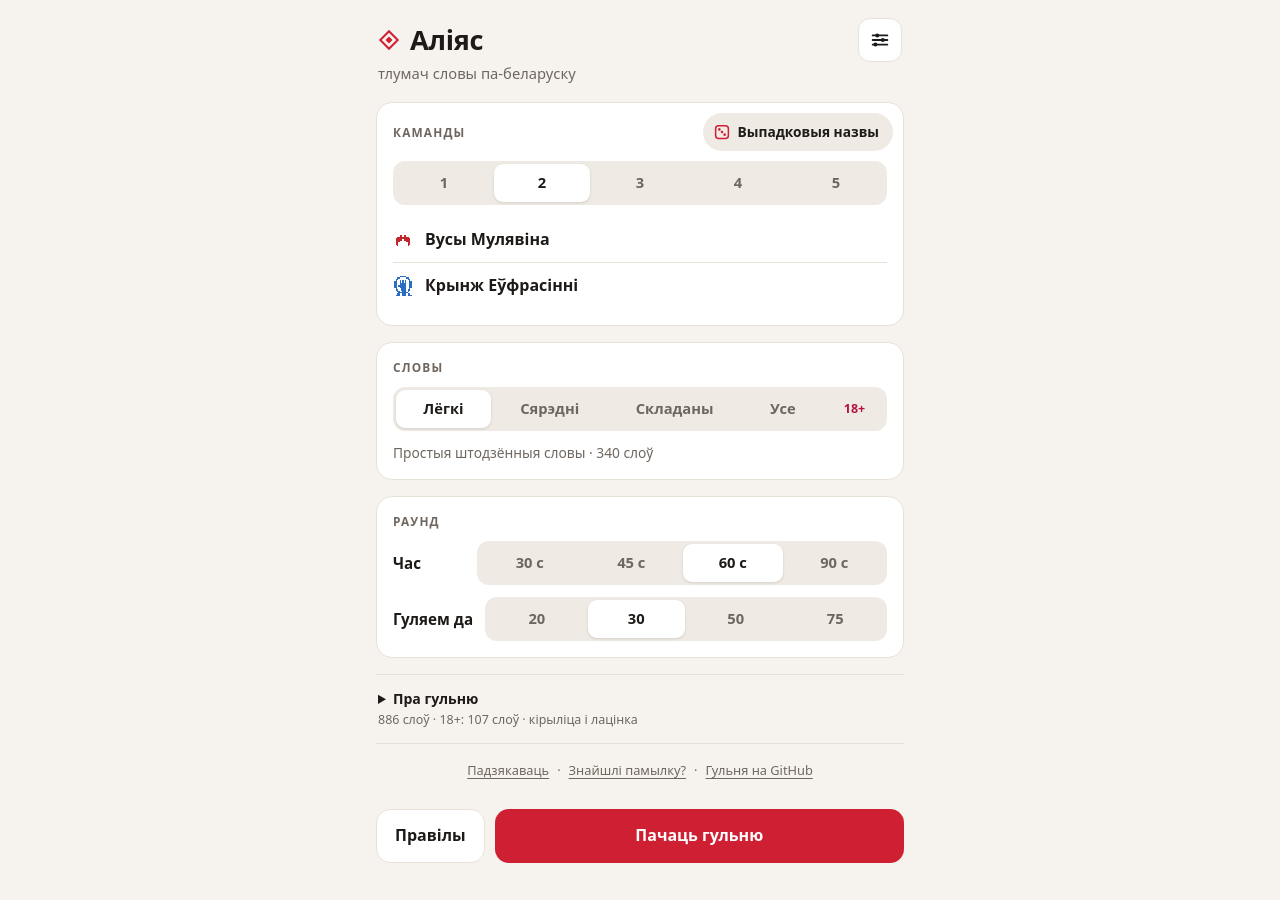
Scenario: SetupScreen › рэжым 18+ стаіць у адным радзе з узроўнямі і ўключаецца толькі пасля пацвярджэння ўзросту
Click the radio button labelled "18+": click(855, 409) top-left (825, 390), bottom-right (884, 428)
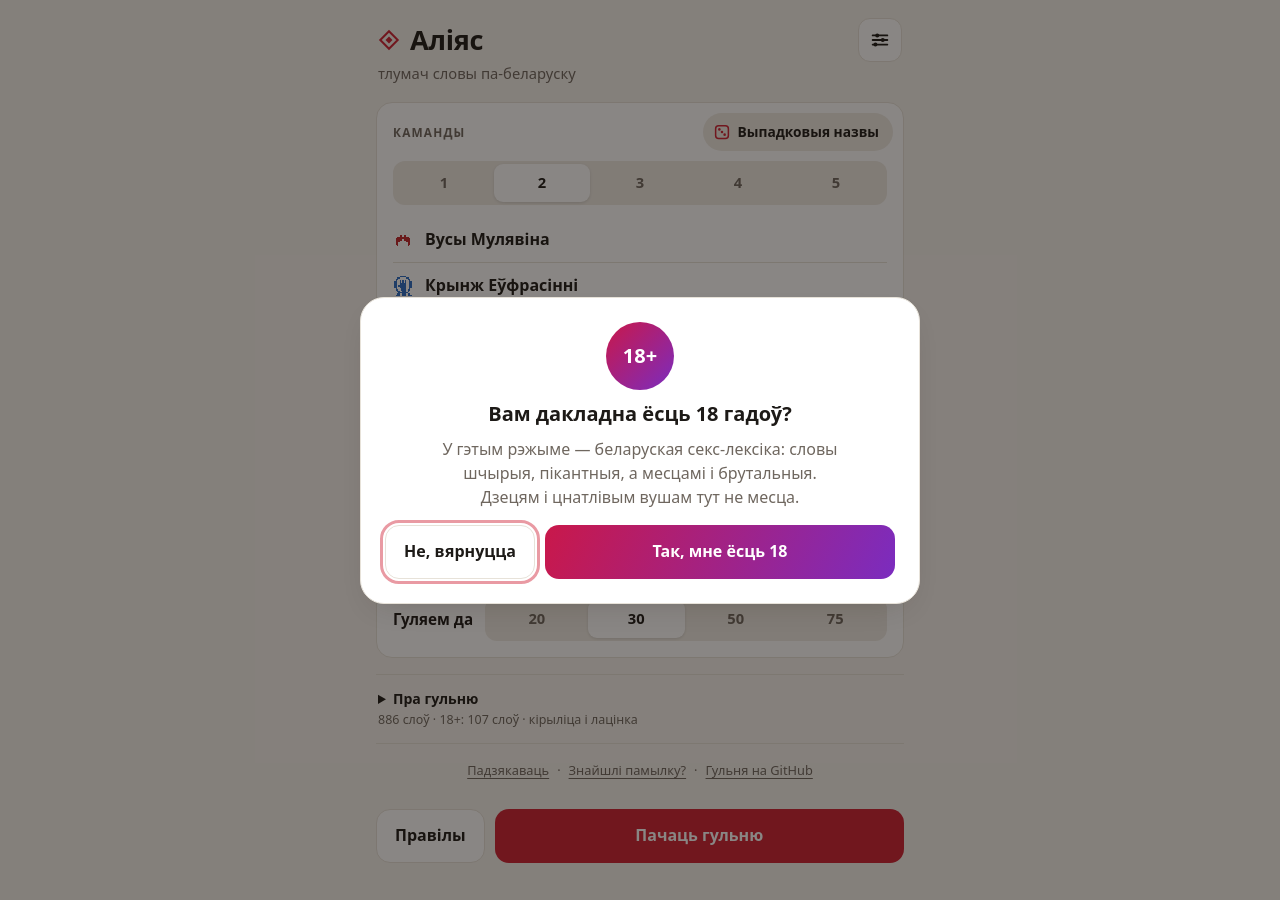
Result: the dialog "Вам дакладна ёсць 18 гадоў?" is shown
Click the button "Не, вярнуцца": click(460, 552) top-left (385, 524), bottom-right (535, 578)
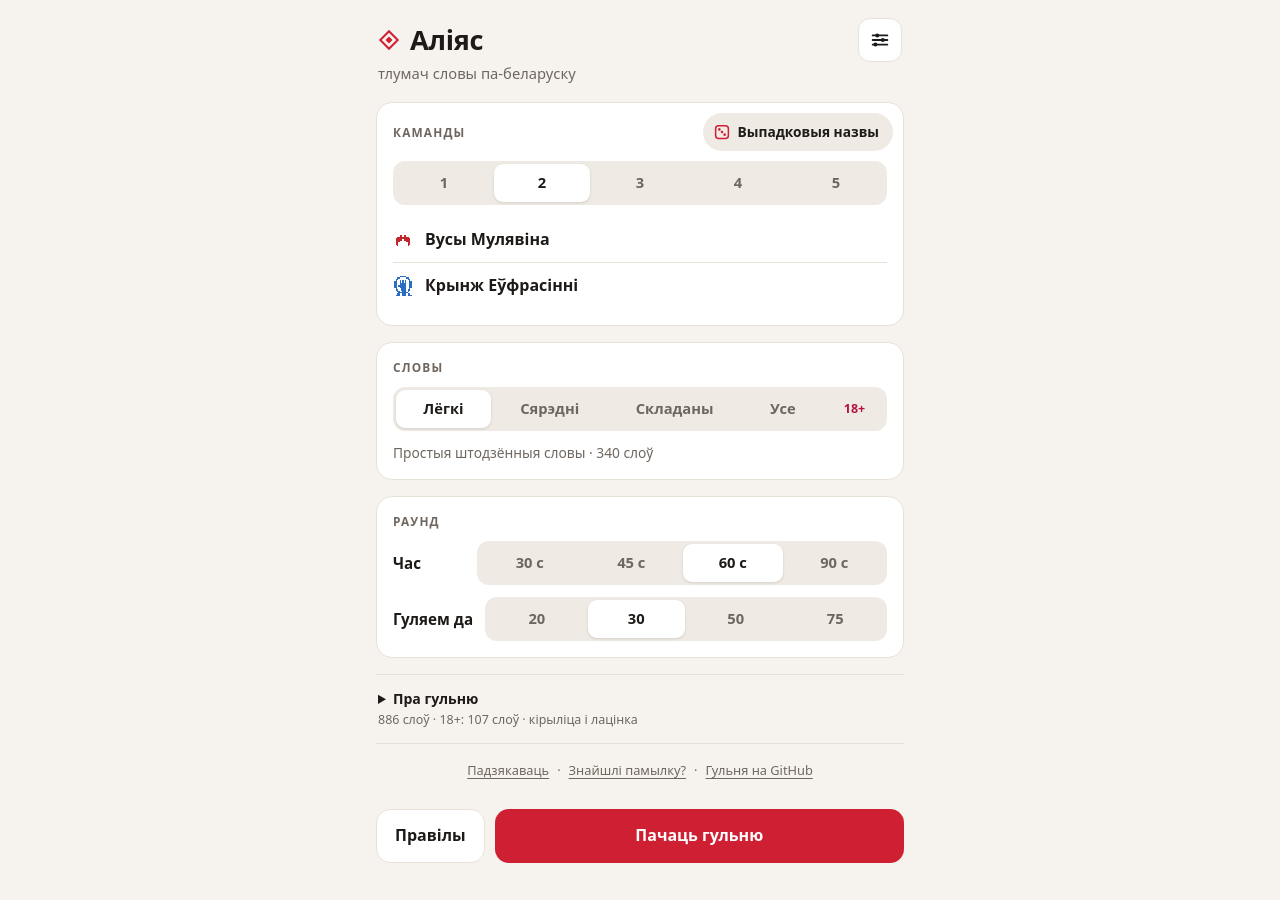
Result: the dialog is gone
Click the radio button labelled "18+": click(855, 409) top-left (825, 390), bottom-right (884, 428)
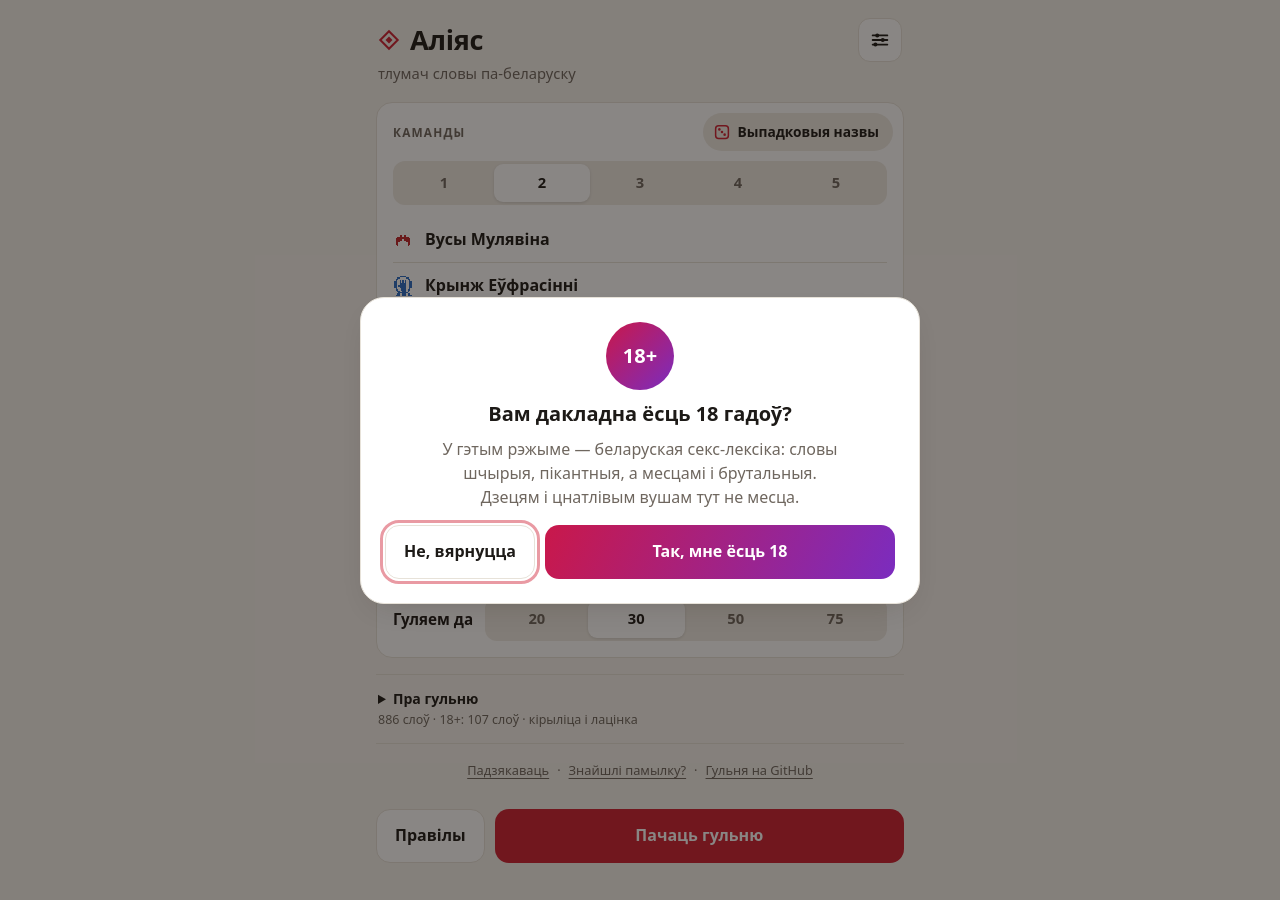
Click the button "Так, мне ёсць 18": click(720, 552) top-left (545, 524), bottom-right (895, 578)
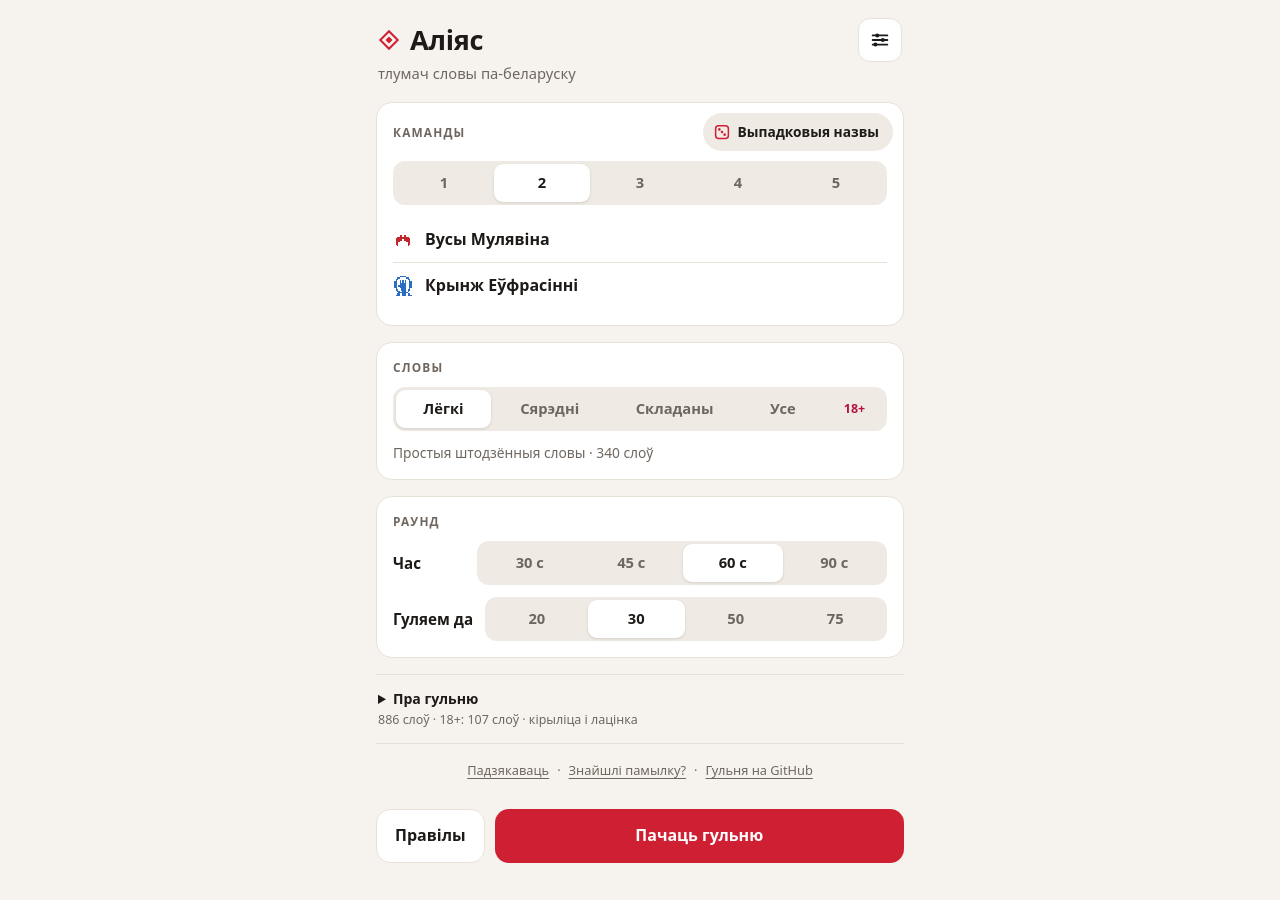
Result: the dialog is gone
